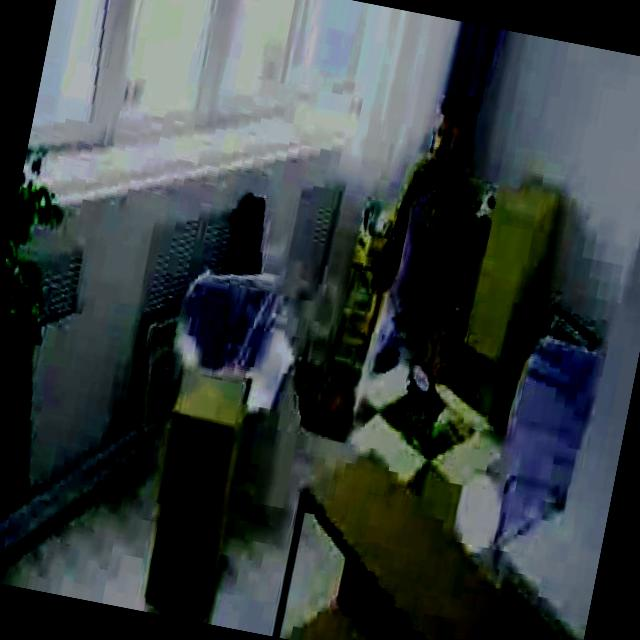Box: (150, 367, 258, 522), (141, 498, 230, 610)
